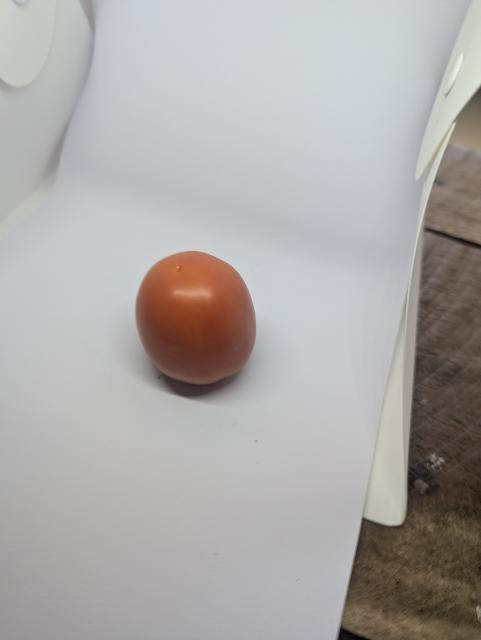red: (131, 241, 281, 396)
